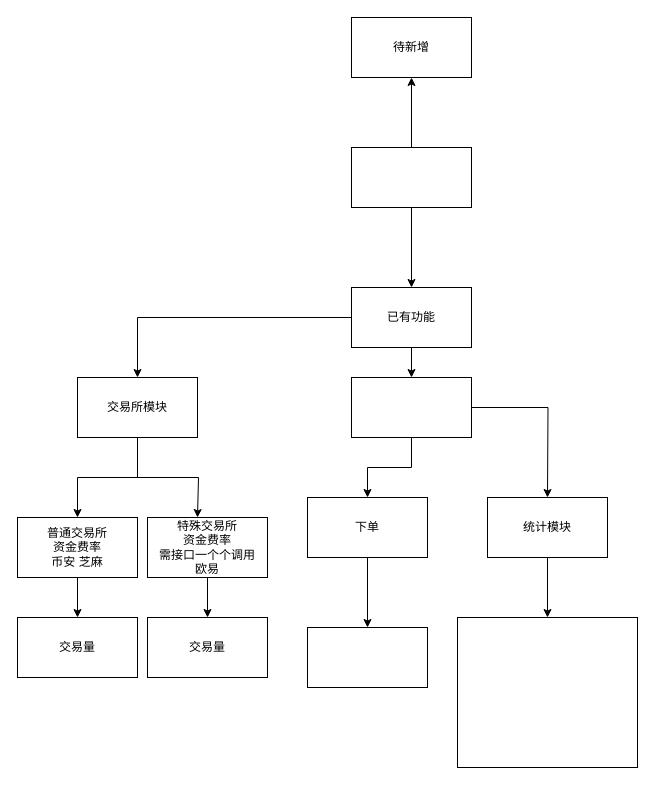
The diagram is 655 pixels wide and 785 high, and some of its shapes have lost their labels. Here are the shapes that lost their labels. From the top down, the box of each, then its label:
(350, 146, 472, 208): 功能点
(350, 376, 472, 438): 交易模块
(306, 626, 428, 688): 做多，先手，倍数，订单笔数，单次数量
(456, 616, 638, 768): 用户仓位，仓位盈亏 总持仓盈亏(先手后手总和) 资金费率盈亏
